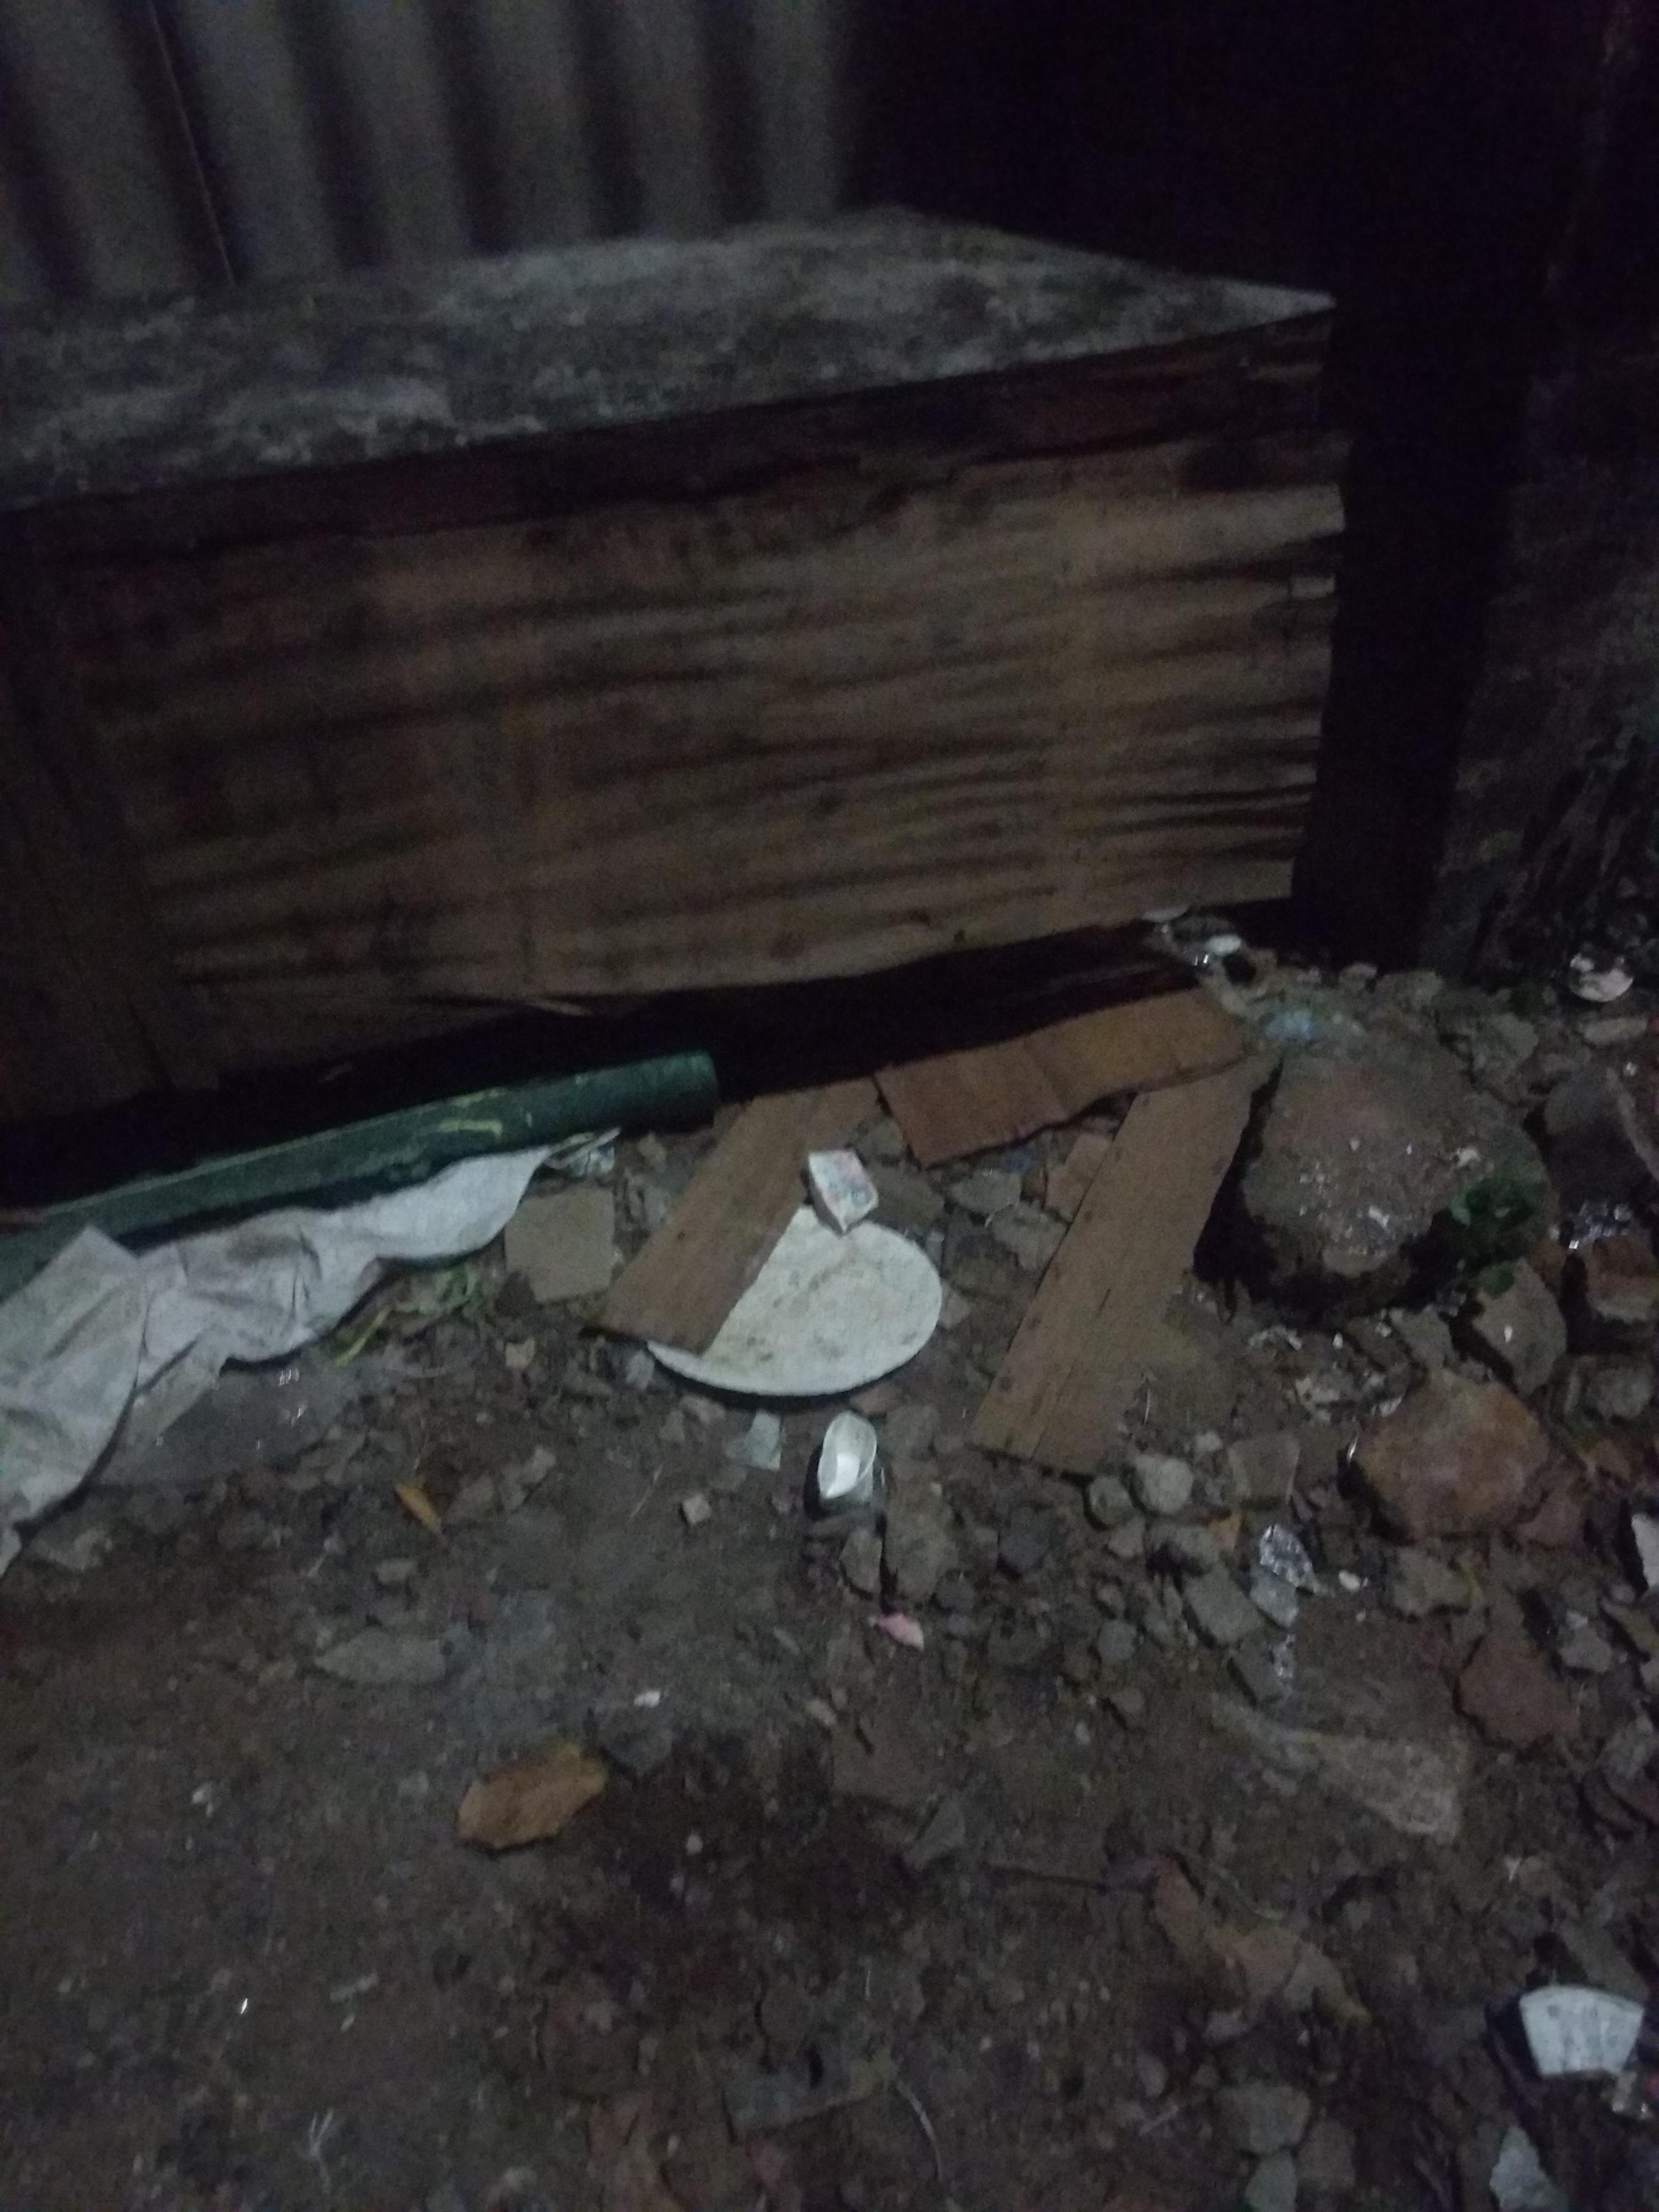trash: (0, 944, 1310, 1531)
